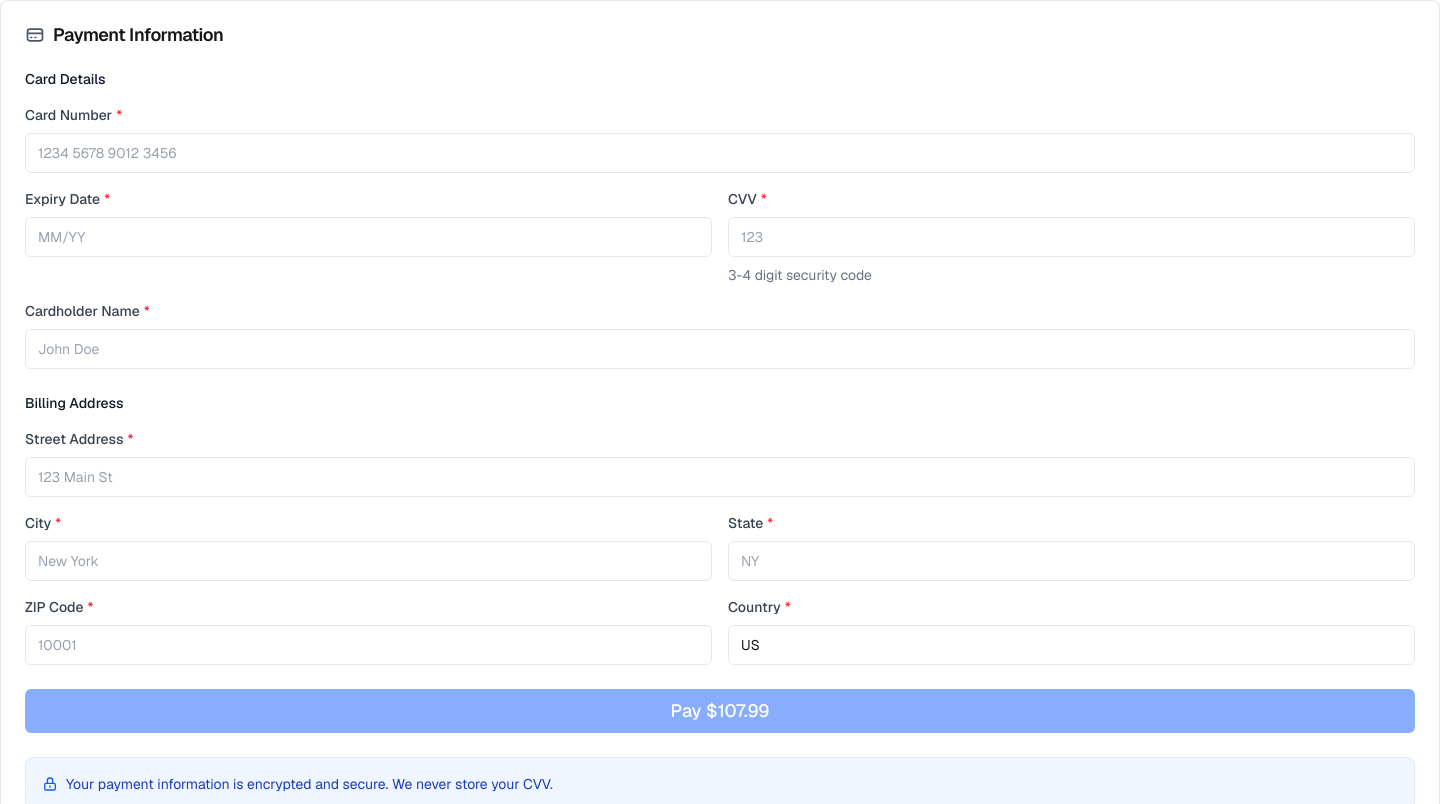
Test case: PaymentForm Component › Card Type Detection › should detect and display Mastercard type
The width and height of the screenshot is (1440, 804).
In the field labelled "Card Number*": (720,153) left=25, top=133, right=1415, bottom=173, type "5555"
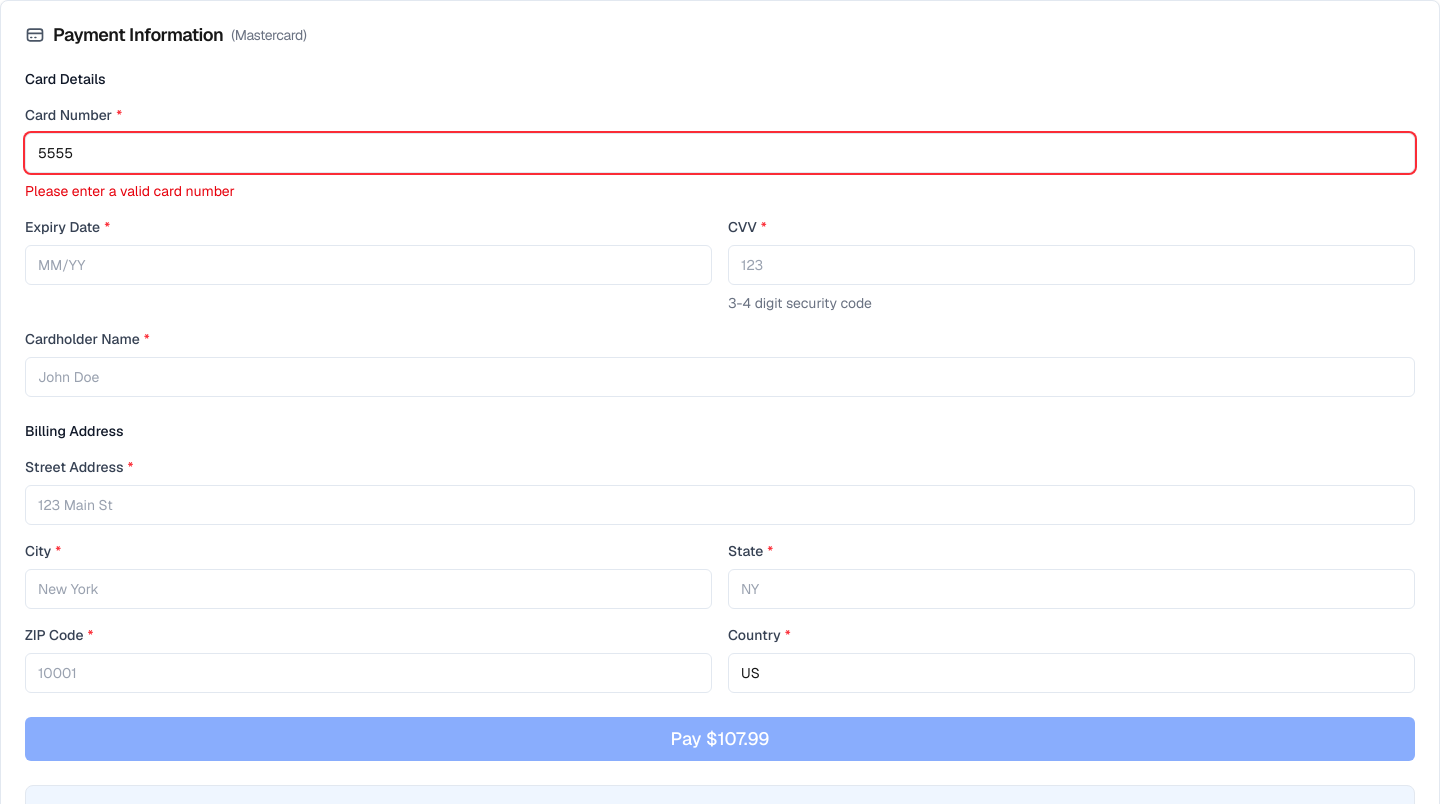
Check: the text "(Mastercard)" is shown, box left=231, top=25, right=306, bottom=45
